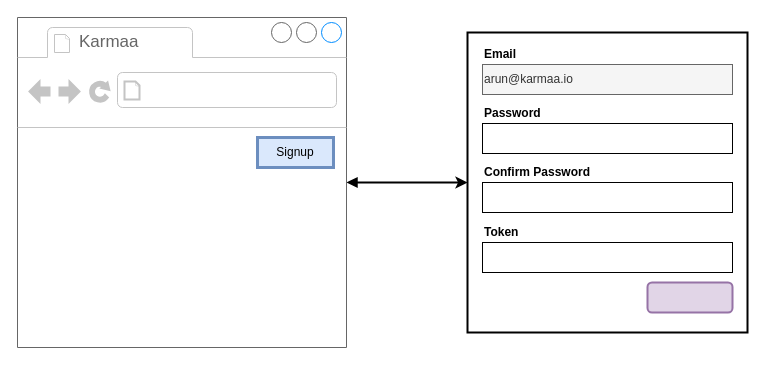
The diagram is 766 pixels wide and 365 high, and some of its shapes have lost their labels. The centre of each missing label's shape, as x and y in pixels:
https://www.karmaa.io: the point at 272,90
Submit: the point at 689,297
